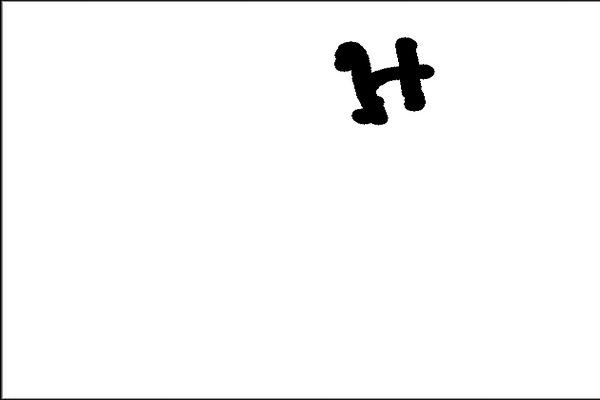H: (330, 31, 440, 130)
